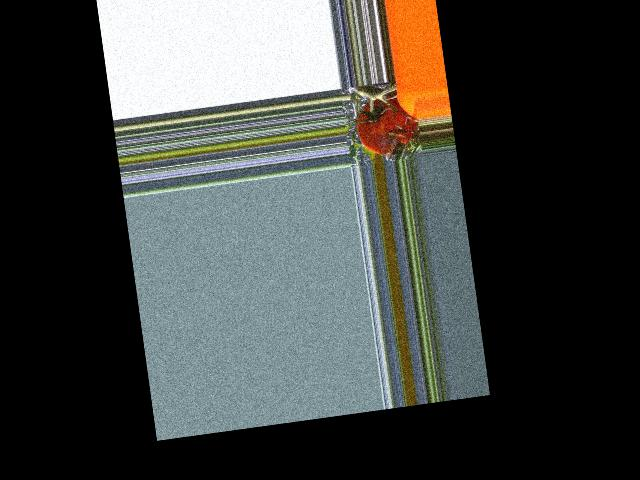tomato: (353, 93, 421, 159)
